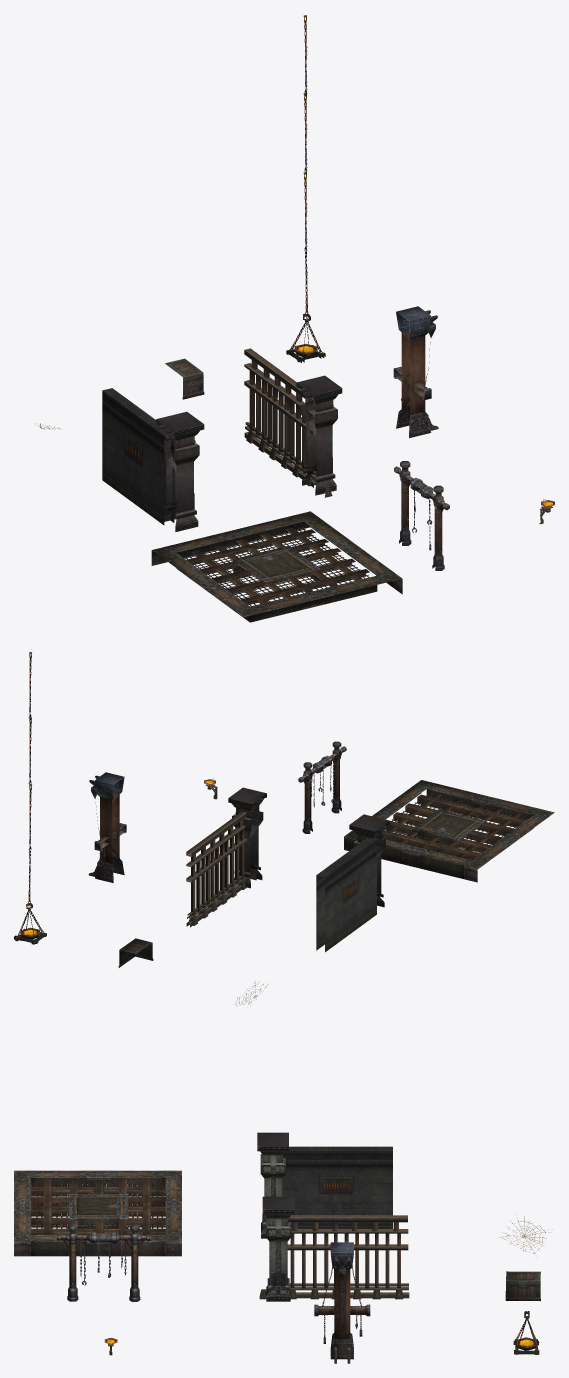
Rendered from SC105Jjy.FBX.
3 views of the same model, one above another, from view 1: azimuth 30°, elevation 25°; view 2: azimuth 150°, elevation 25°; view 3: azimuth 270°, elevation 25° (orthographic). The views are drawn at different scales.
Visible parts, largest first — view 1: SC105Jjy_muban01, SC105Jjy_qiangbi02, SC105Jjy_qiangbi04, SC105Jjy_kaoxingjia03, SC105Jjy_qiangbi01, SC105Jjy_qiangbi03, SC105Jjy_muban02, SC105Jjy_kaoxingjia01, SC105Jjy_diaodeng02, SC105Jjy_xiangzi; view 2: SC105Jjy_muban01, SC105Jjy_qiangbi02, SC105Jjy_qiangbi04, SC105Jjy_kaoxingjia03, SC105Jjy_qiangbi03, SC105Jjy_kaoxingjia01, SC105Jjy_qiangbi01, SC105Jjy_muban02, SC105Jjy_diaodeng02, SC105Jjy_xiangzi; view 3: SC105Jjy_muban01, SC105Jjy_qiangbi02, SC105Jjy_qiangbi04, SC105Jjy_kaoxingjia03, SC105Jjy_qiangbi03, SC105Jjy_kaoxingjia01, SC105Jjy_qiangbi01, SC105Jjy_muban02, SC105Jjy_xiangzi, SC105Jjy_kaoxingjia02.
Part boxes in pixels (x1=…): SC105Jjy_muban01: x1=151, y1=511, x2=402, y2=622; SC105Jjy_qiangbi02: x1=102, y1=388, x2=174, y2=525; SC105Jjy_qiangbi04: x1=244, y1=348, x2=316, y2=487; SC105Jjy_kaoxingjia03: x1=393, y1=306, x2=438, y2=438; SC105Jjy_qiangbi01: x1=156, y1=411, x2=204, y2=531; SC105Jjy_qiangbi03: x1=296, y1=375, x2=342, y2=497; SC105Jjy_muban02: x1=184, y1=528, x2=369, y2=606; SC105Jjy_kaoxingjia01: x1=394, y1=461, x2=449, y2=570; SC105Jjy_diaodeng02: x1=289, y1=15, x2=323, y2=357; SC105Jjy_xiangzi: x1=165, y1=358, x2=204, y2=399; SC105Jjy_muban01: x1=344, y1=780, x2=554, y2=882; SC105Jjy_qiangbi02: x1=316, y1=838, x2=376, y2=952; SC105Jjy_qiangbi04: x1=186, y1=811, x2=246, y2=927; SC105Jjy_kaoxingjia03: x1=88, y1=772, x2=126, y2=882; SC105Jjy_qiangbi03: x1=228, y1=787, x2=266, y2=888; SC105Jjy_kaoxingjia01: x1=298, y1=741, x2=346, y2=833; SC105Jjy_qiangbi01: x1=349, y1=814, x2=389, y2=907; SC105Jjy_muban02: x1=384, y1=794, x2=526, y2=859; SC105Jjy_diaodeng02: x1=16, y1=652, x2=43, y2=939; SC105Jjy_xiangzi: x1=118, y1=938, x2=153, y2=967; SC105Jjy_muban01: x1=14, y1=1170, x2=181, y2=1256; SC105Jjy_qiangbi02: x1=282, y1=1146, x2=392, y2=1228; SC105Jjy_qiangbi04: x1=287, y1=1215, x2=409, y2=1299; SC105Jjy_kaoxingjia03: x1=314, y1=1242, x2=370, y2=1363; SC105Jjy_qiangbi03: x1=259, y1=1196, x2=294, y2=1301; SC105Jjy_kaoxingjia01: x1=56, y1=1224, x2=150, y2=1301; SC105Jjy_qiangbi01: x1=257, y1=1132, x2=288, y2=1238; SC105Jjy_muban02: x1=31, y1=1183, x2=165, y2=1228; SC105Jjy_xiangzi: x1=505, y1=1271, x2=540, y2=1301; SC105Jjy_kaoxingjia02: x1=80, y1=1233, x2=126, y2=1279.
Size of the model in its own units: 18.71 by 17.37 by 25.89.
